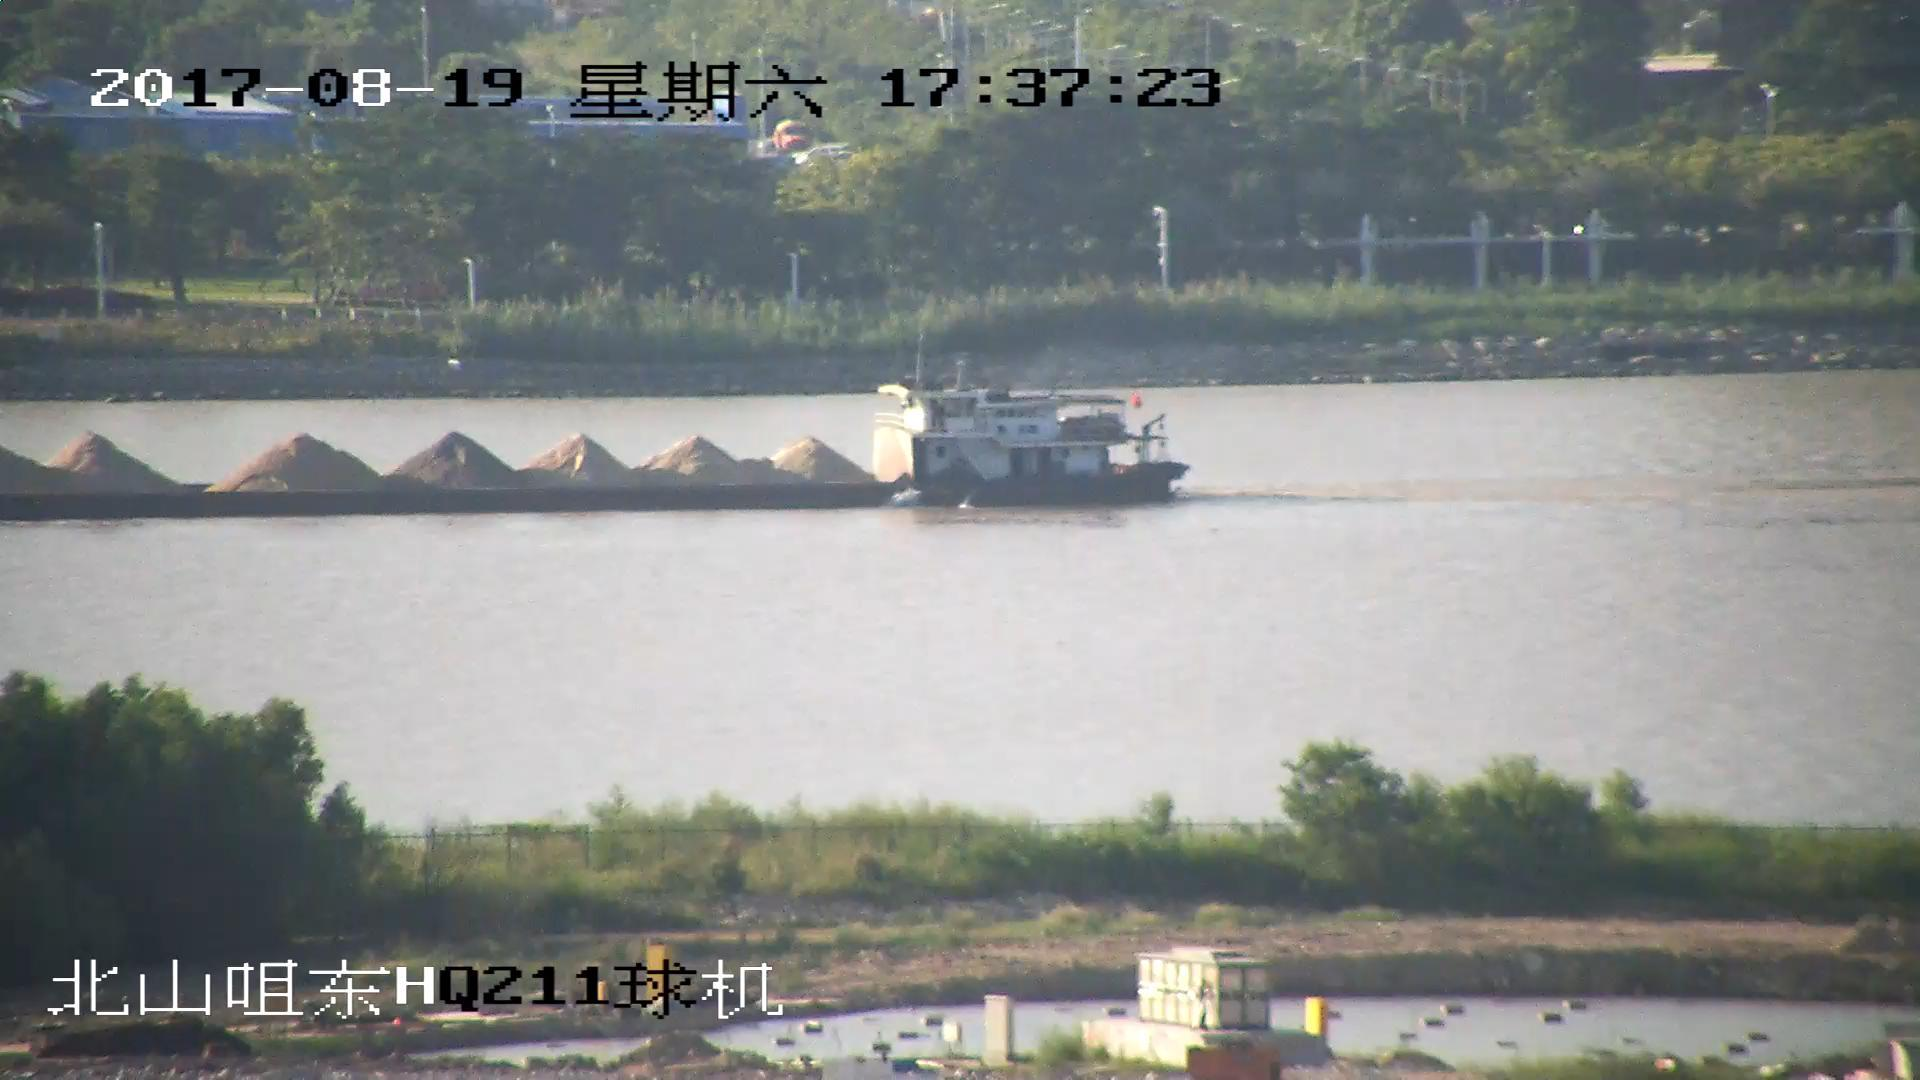Ship: (3, 352, 1197, 524)
